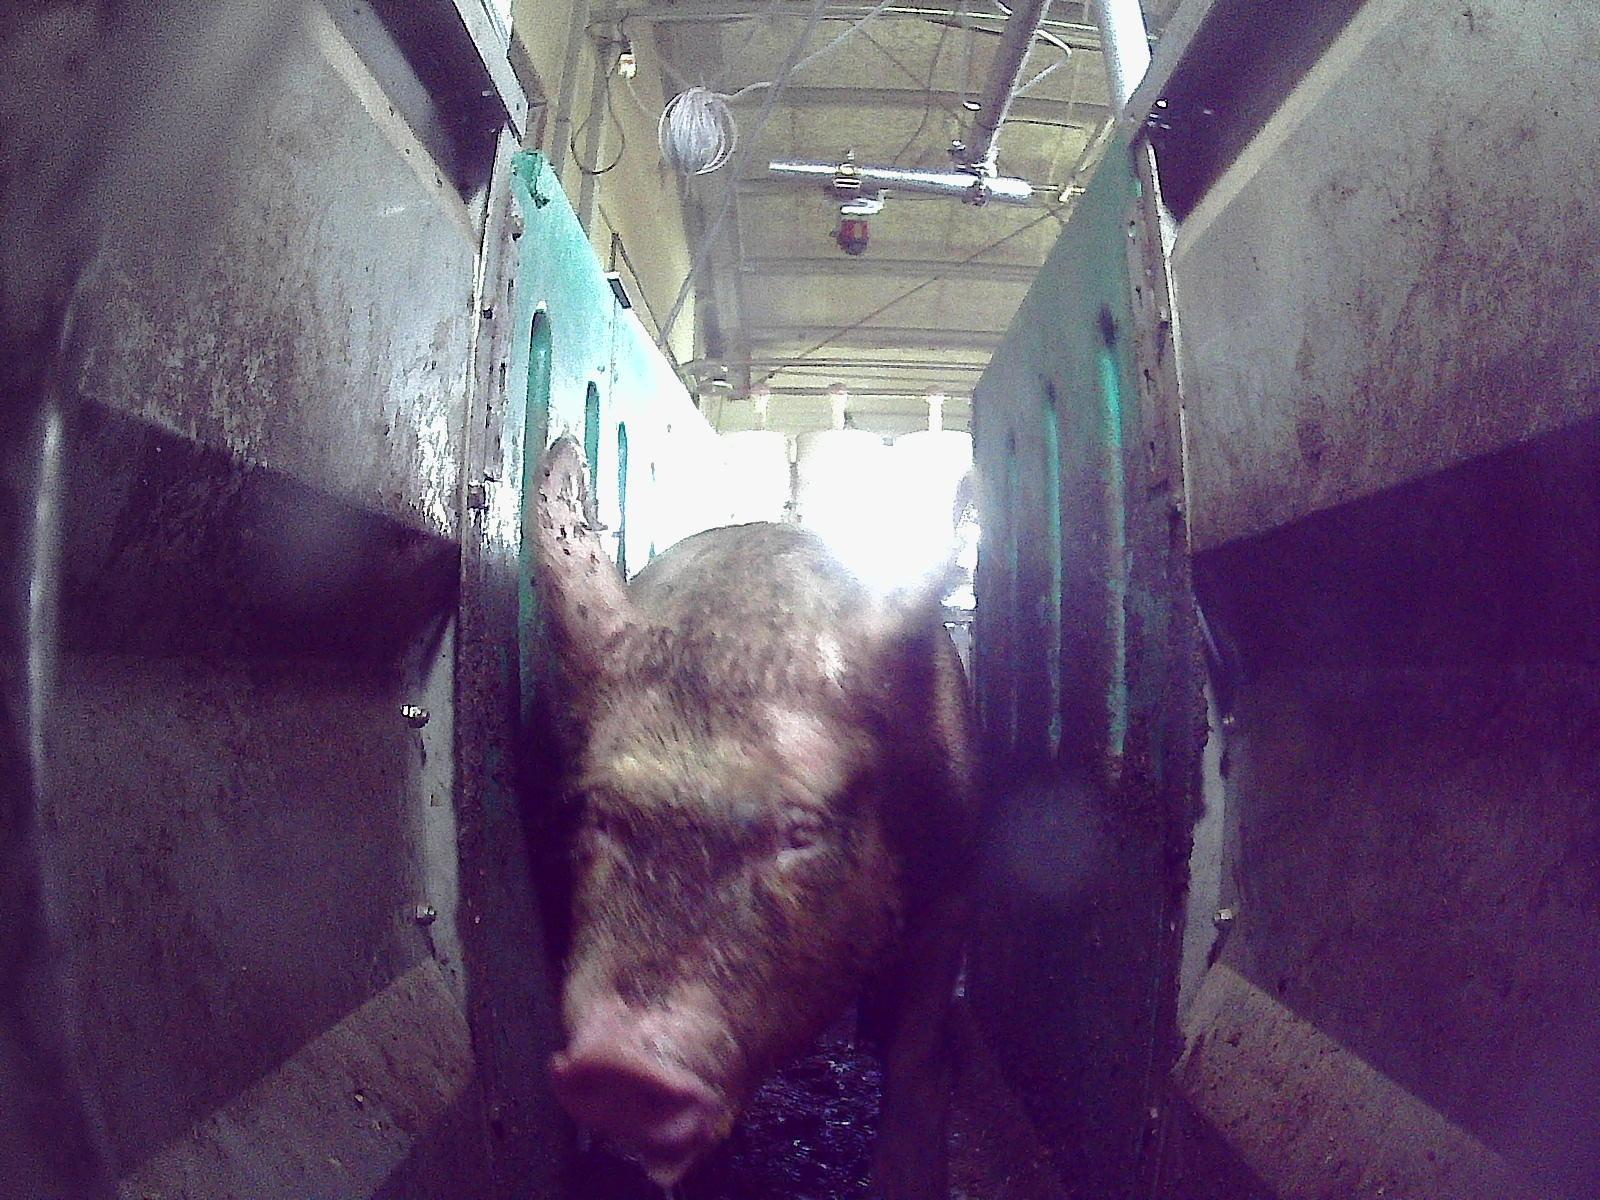Face: (546, 587, 895, 1185)
